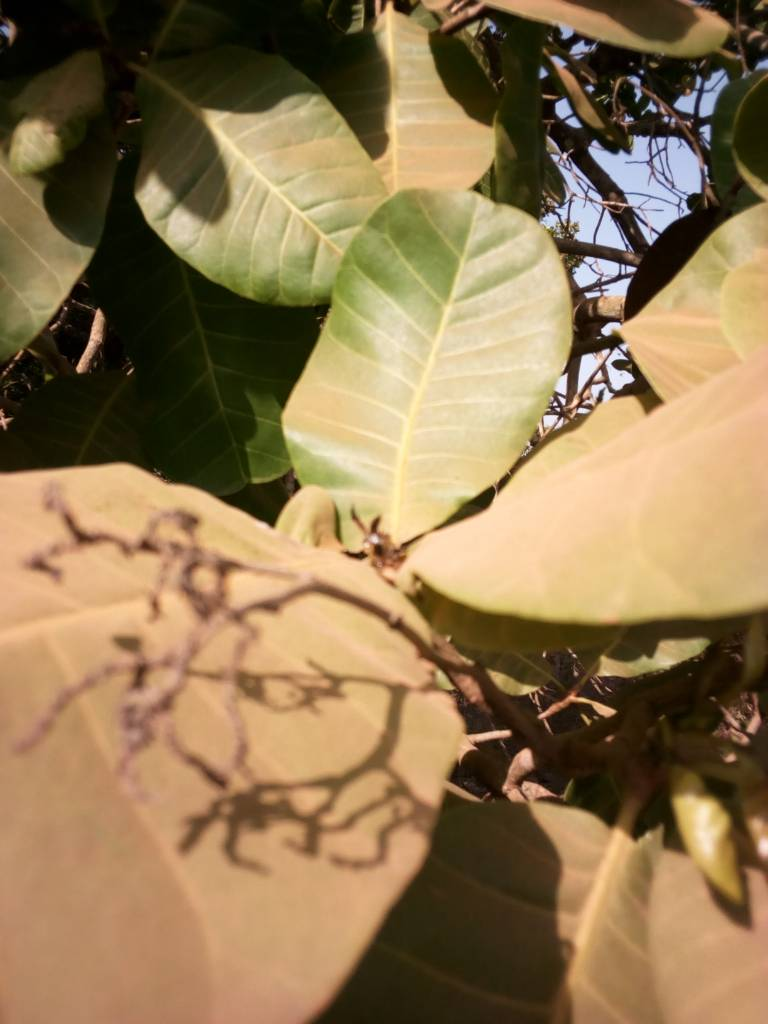Dessèchement des bourgeons: (32, 486, 322, 816)
